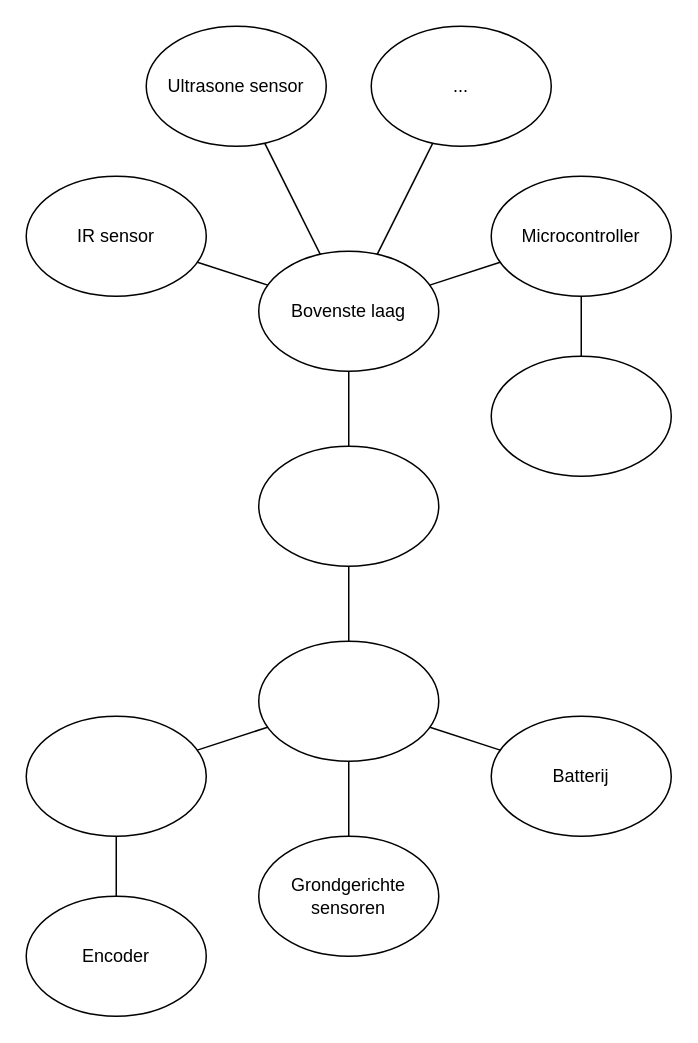
Some shapes in this 698 by 1043 pixel diagram are drawn without their labels. The centre of each missing label's shape, as x and y in pixels:
"I²C" belongs at (x=580, y=415).
"Onderste laag" belongs at (x=348, y=700).
"Servomotoren" belongs at (x=115, y=775).
"Smart-car" belongs at (x=348, y=505).
